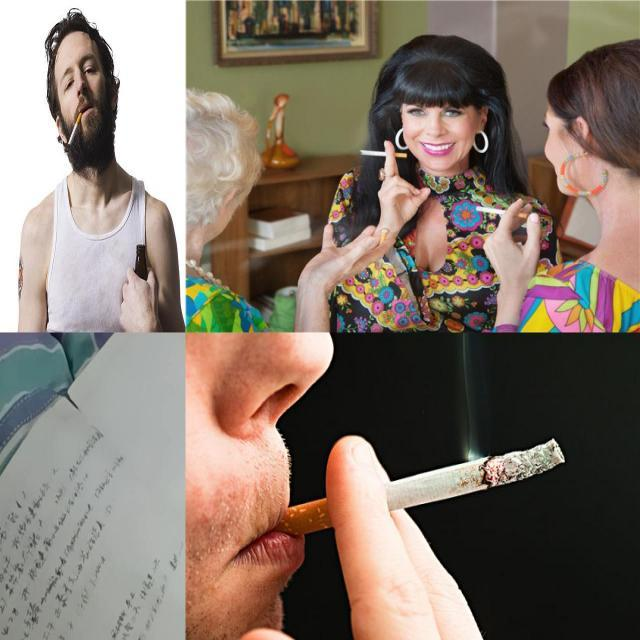cigarette: (272, 436, 568, 538), (476, 206, 530, 220), (67, 111, 83, 149), (358, 150, 408, 158)
